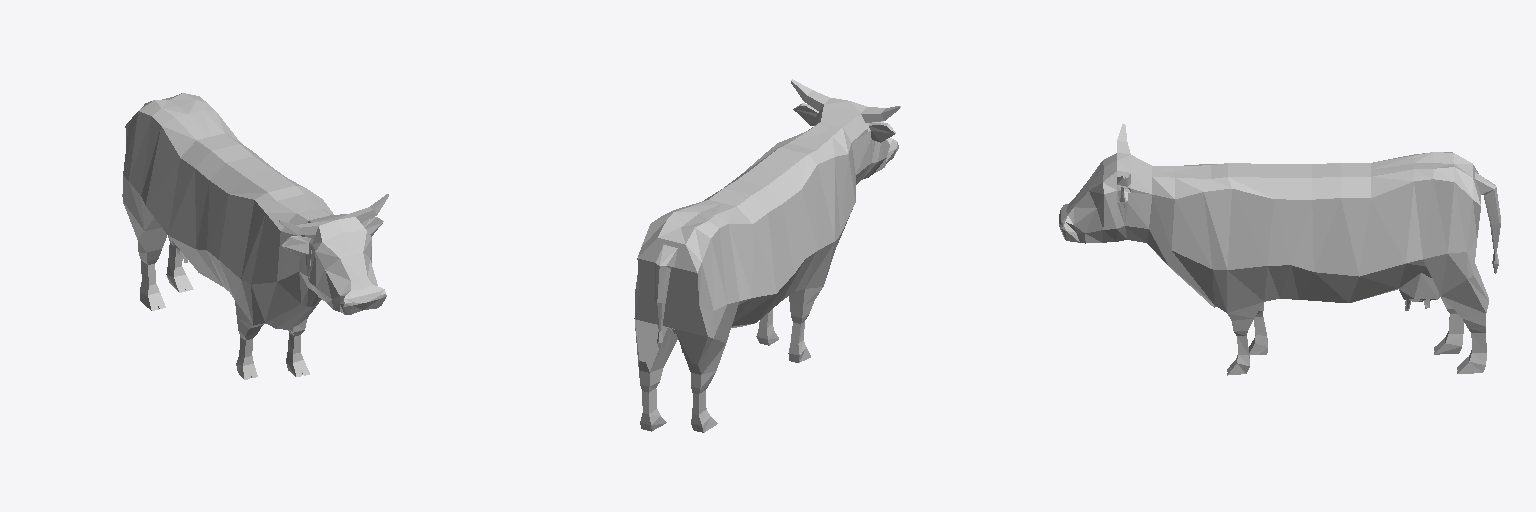
The model's file is Cow expanded.obj.
3 renders of one model, left to right at view 1: azimuth 30°, elevation 25°; view 2: azimuth 150°, elevation 25°; view 3: azimuth 270°, elevation 25°, orthographic.
Visible parts, largest first — view 1: Plane_Plane.002; view 2: Plane_Plane.002; view 3: Plane_Plane.002.
Boxes of the visible parts, <box> form: Plane_Plane.002: <box>122,93,388,379</box>; Plane_Plane.002: <box>634,79,900,432</box>; Plane_Plane.002: <box>1059,124,1500,375</box>.
Bounding box in the file's own units: 1.86 × 3.43 × 6.5.